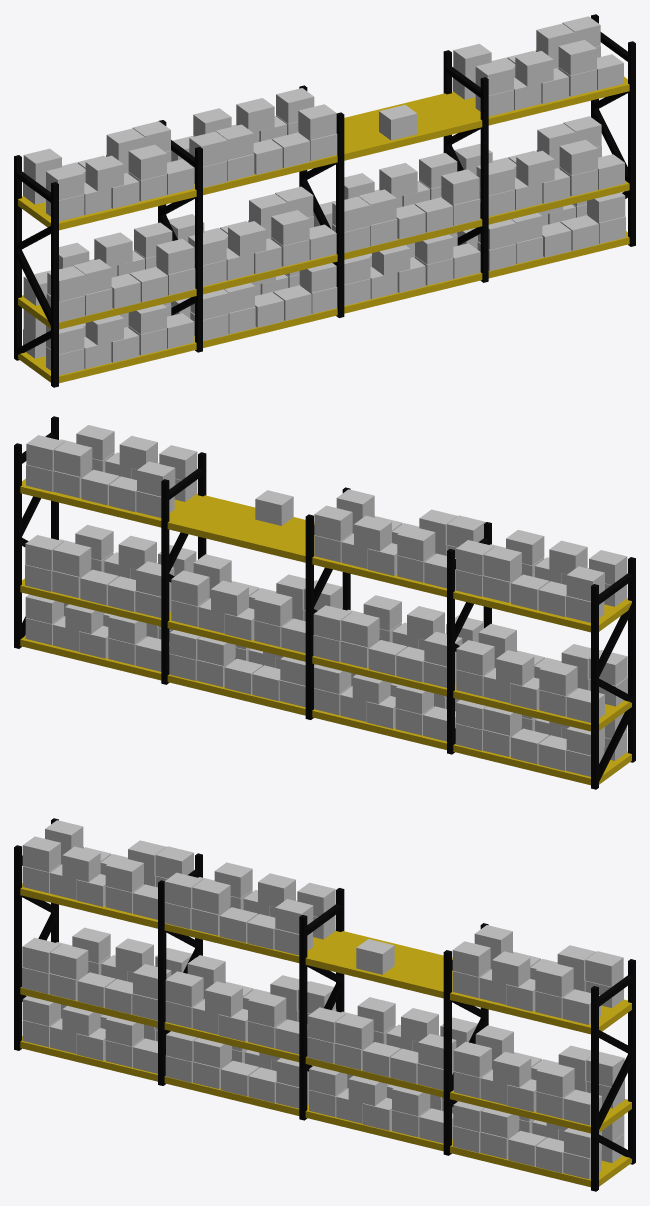
File: shelf_big_movai.obj
The picture shows the model from 3 angles, top to bottom: view 1: azimuth 30°, elevation 25°; view 2: azimuth 150°, elevation 25°; view 3: azimuth 330°, elevation 25°; orthographic projection.
Visible parts, largest first — view 1: Cube_026-mesh, Cube_019-mesh, Cube_015-mesh, Cube_028-mesh; view 2: Cube_026-mesh, Cube_019-mesh, Cube_015-mesh, Cube_028-mesh; view 3: Cube_026-mesh, Cube_019-mesh, Cube_015-mesh, Cube_028-mesh.
Boxes of the visible parts, x1,y1,x2,y2 form: Cube_026-mesh: [23, 16, 625, 375]; Cube_019-mesh: [18, 76, 629, 383]; Cube_015-mesh: [14, 14, 635, 387]; Cube_028-mesh: [379, 105, 417, 140]; Cube_026-mesh: [25, 425, 627, 776]; Cube_019-mesh: [20, 478, 631, 785]; Cube_015-mesh: [14, 416, 635, 789]; Cube_028-mesh: [255, 490, 293, 525]; Cube_026-mesh: [22, 820, 624, 1179]; Cube_019-mesh: [20, 883, 631, 1187]; Cube_015-mesh: [14, 818, 635, 1191]; Cube_028-mesh: [356, 939, 394, 974].
Bounding box in the file's own units: 18.06 × 6.06 × 2.14.
